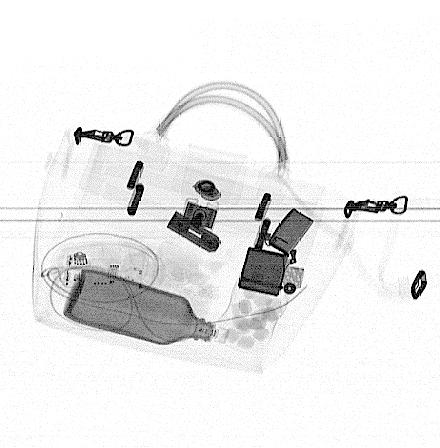Lighter: (237, 208, 315, 298)
